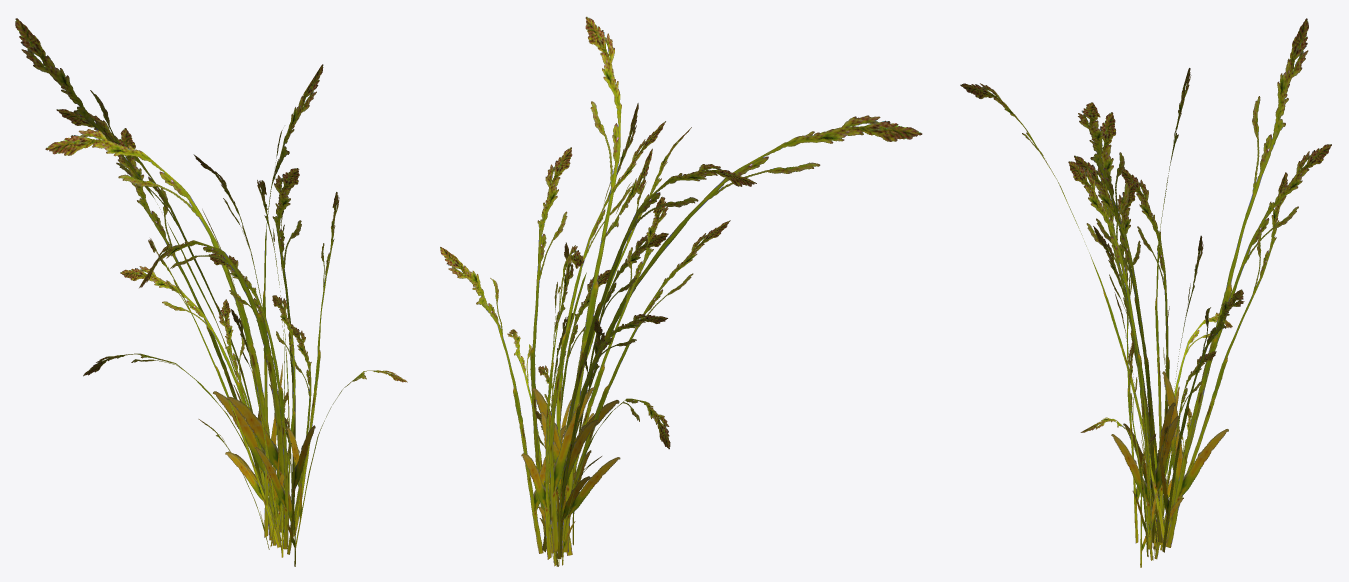
The model's file is crop-emmer.glb.
The picture shows the model from 3 angles, left to right: view 1: azimuth 30°, elevation 25°; view 2: azimuth 150°, elevation 25°; view 3: azimuth 270°, elevation 25°; orthographic projection. The views are drawn at different scales.
Visible parts, largest first — view 1: Material_Mat; view 2: Material_Mat; view 3: Material_Mat.
Boxes of the visible parts, <box> form: Material_Mat: <box>15,18,407,566</box>; Material_Mat: <box>440,16,922,566</box>; Material_Mat: <box>960,18,1331,567</box>.
Size of the model in its own units: 0.6879 by 1.02 by 0.7385.
1 material, 1 textured.
